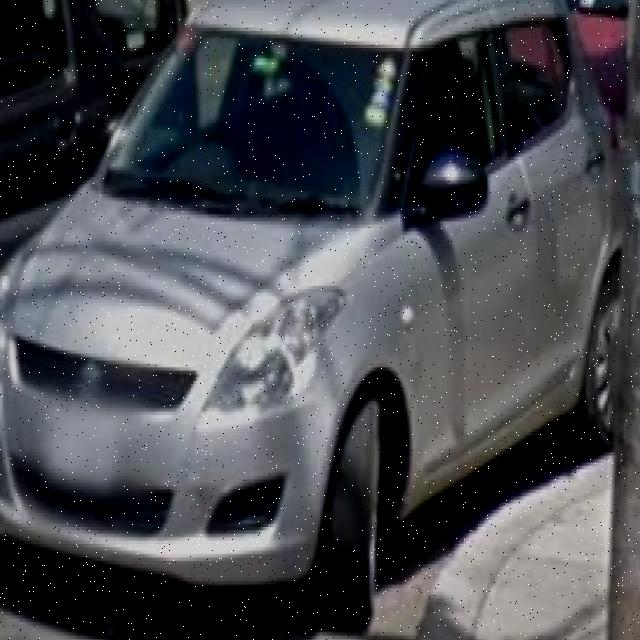car: (0, 0, 626, 608)
